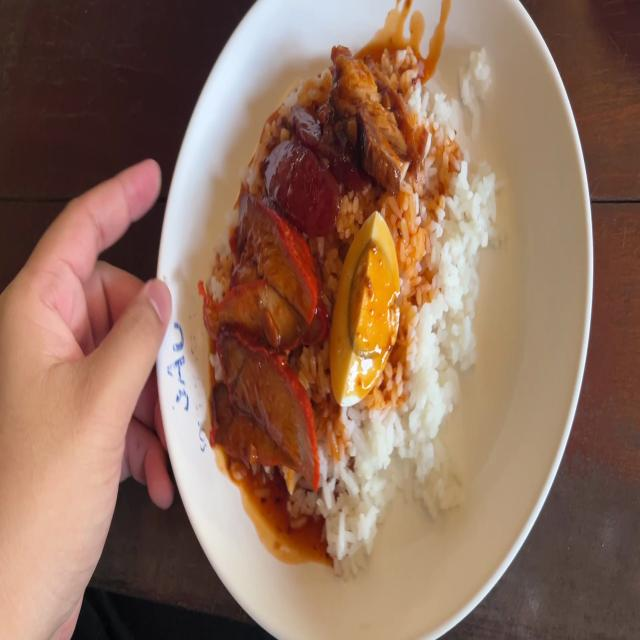01boiled_egg: (331, 218, 399, 398)
01chainese_sausage: (266, 113, 348, 226)
01crispy_pork: (332, 46, 421, 176)
01red_pork: (215, 201, 325, 486)
01red_pork_and_crispy_pork: (217, 51, 480, 524)
01rice: (414, 88, 476, 471), (331, 403, 405, 538)
